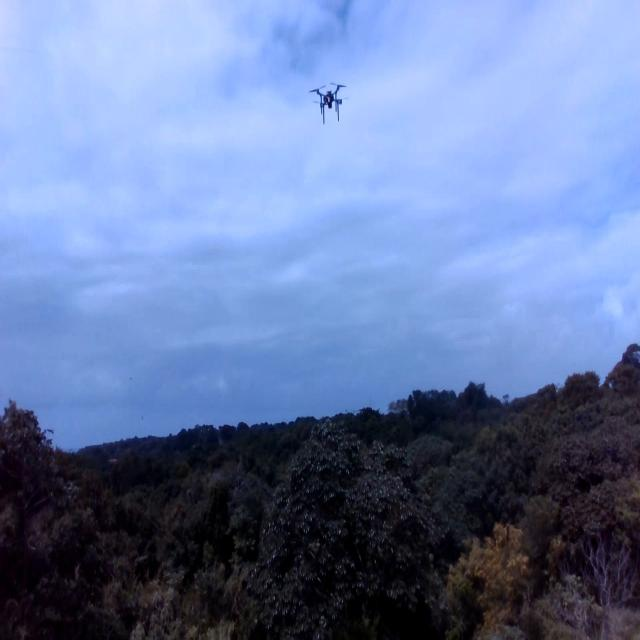-uav-: (305, 68, 353, 133)
